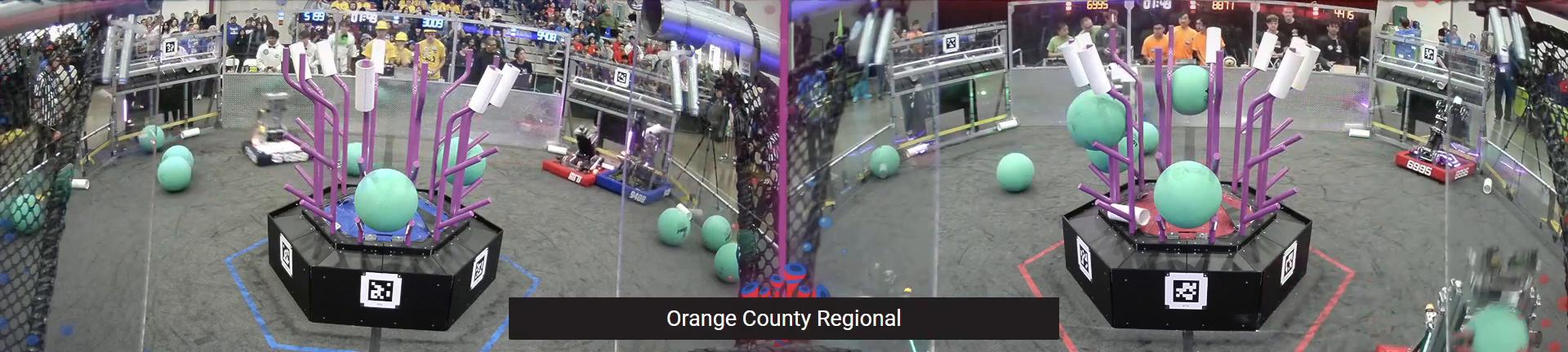reef: (1062, 23, 1315, 333), (268, 33, 505, 348)
robot: (1377, 250, 1564, 352), (1395, 99, 1483, 188), (593, 122, 676, 211), (246, 89, 313, 171), (542, 121, 612, 186)
